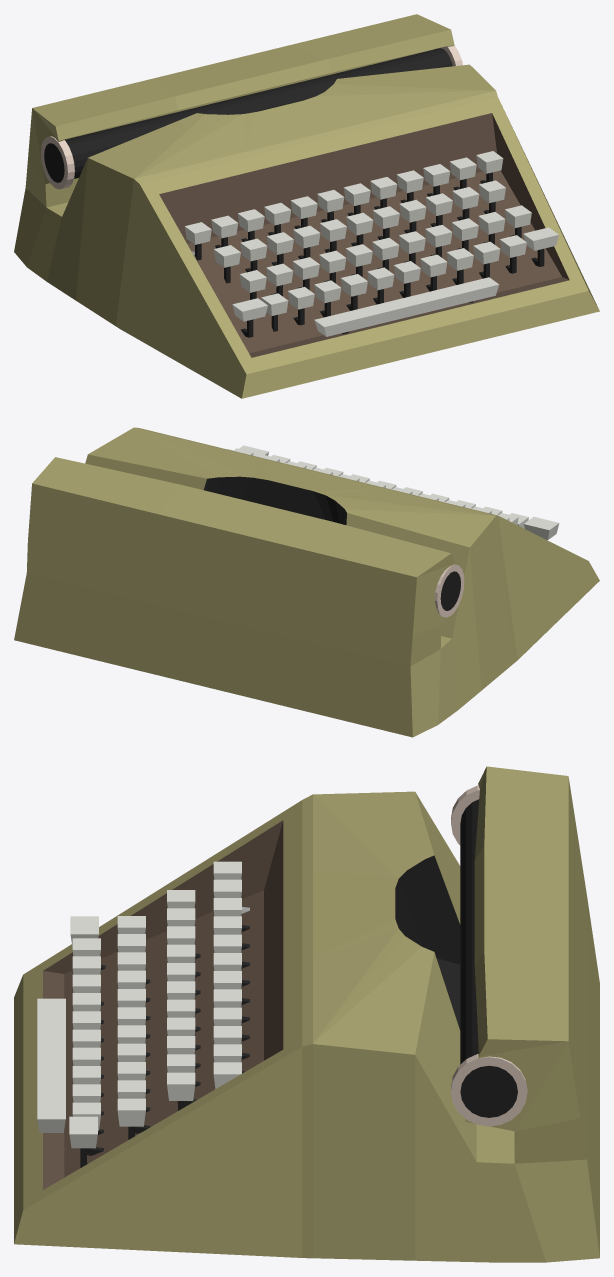
The model's file is F11_Typewriter.fbx.
3 renders of one model, top to bottom at view 1: azimuth 30°, elevation 25°; view 2: azimuth 150°, elevation 25°; view 3: azimuth 270°, elevation 25°, orthographic. The views are drawn at different scales.
Visible parts, largest first — view 1: Typewriter_1970; view 2: Typewriter_1970; view 3: Typewriter_1970.
Part boxes in pixels (x1,y1,x2,y2): Typewriter_1970: (14, 14, 599, 398); Typewriter_1970: (14, 427, 599, 737); Typewriter_1970: (14, 766, 599, 1262).
Size of the model in its own units: 13.96 by 5.07 by 12.2.
